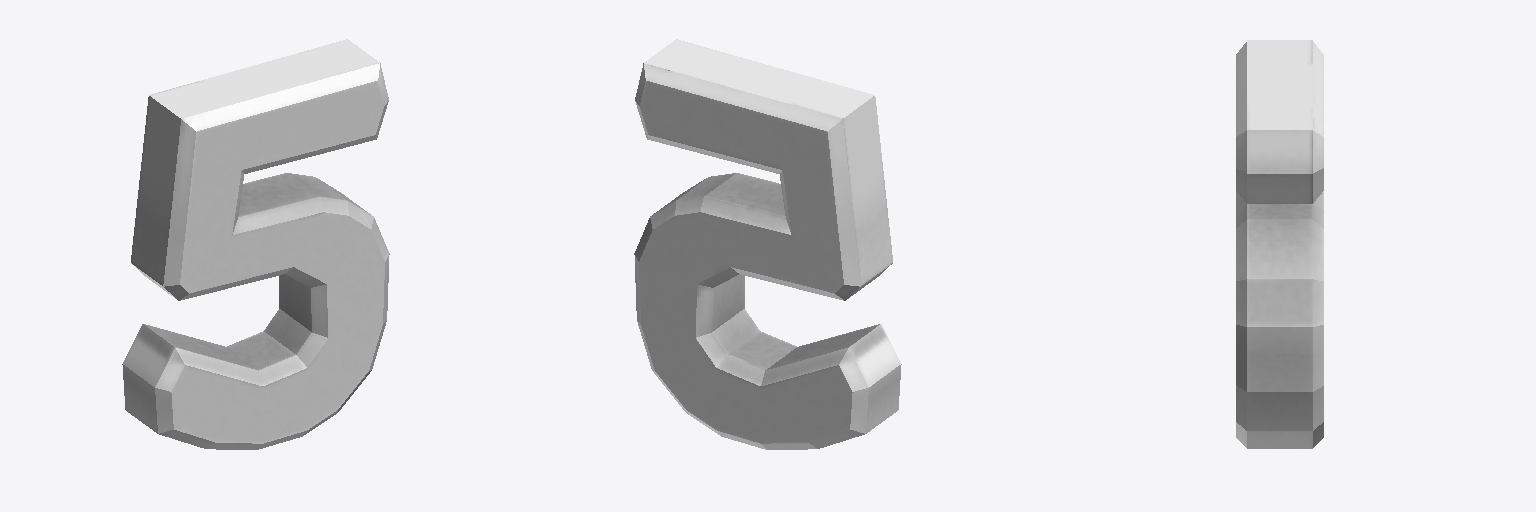
3 views of the same model, side by side, from view 1: azimuth 30°, elevation 25°; view 2: azimuth 150°, elevation 25°; view 3: azimuth 270°, elevation 25° (orthographic).
Visible parts, largest first — view 1: Number_5; view 2: Number_5; view 3: Number_5.
Part boxes in pixels (bbox=[...]): Number_5: bbox=[122, 39, 389, 449]; Number_5: bbox=[634, 39, 901, 449]; Number_5: bbox=[1236, 40, 1323, 448].
Size of the model in its own units: 17.98 by 26.17 by 5.91.
Materials: 1 (1 with a texture image).